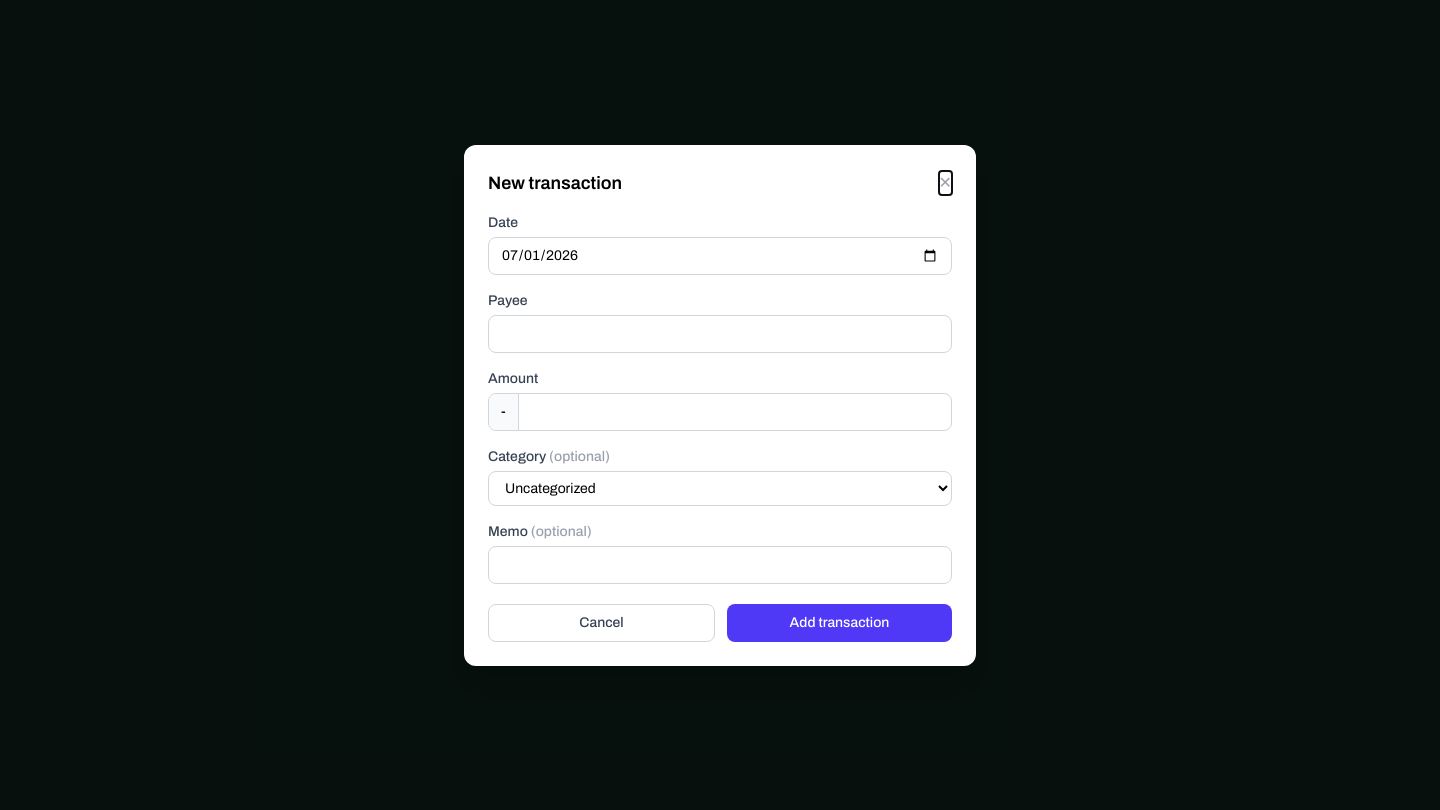
Test: AddTransactionModal › clicking sign toggle switches to income (+)
The image size is (1440, 810).
Click the button named "expense" at (504, 412), box [489,394,519,430]
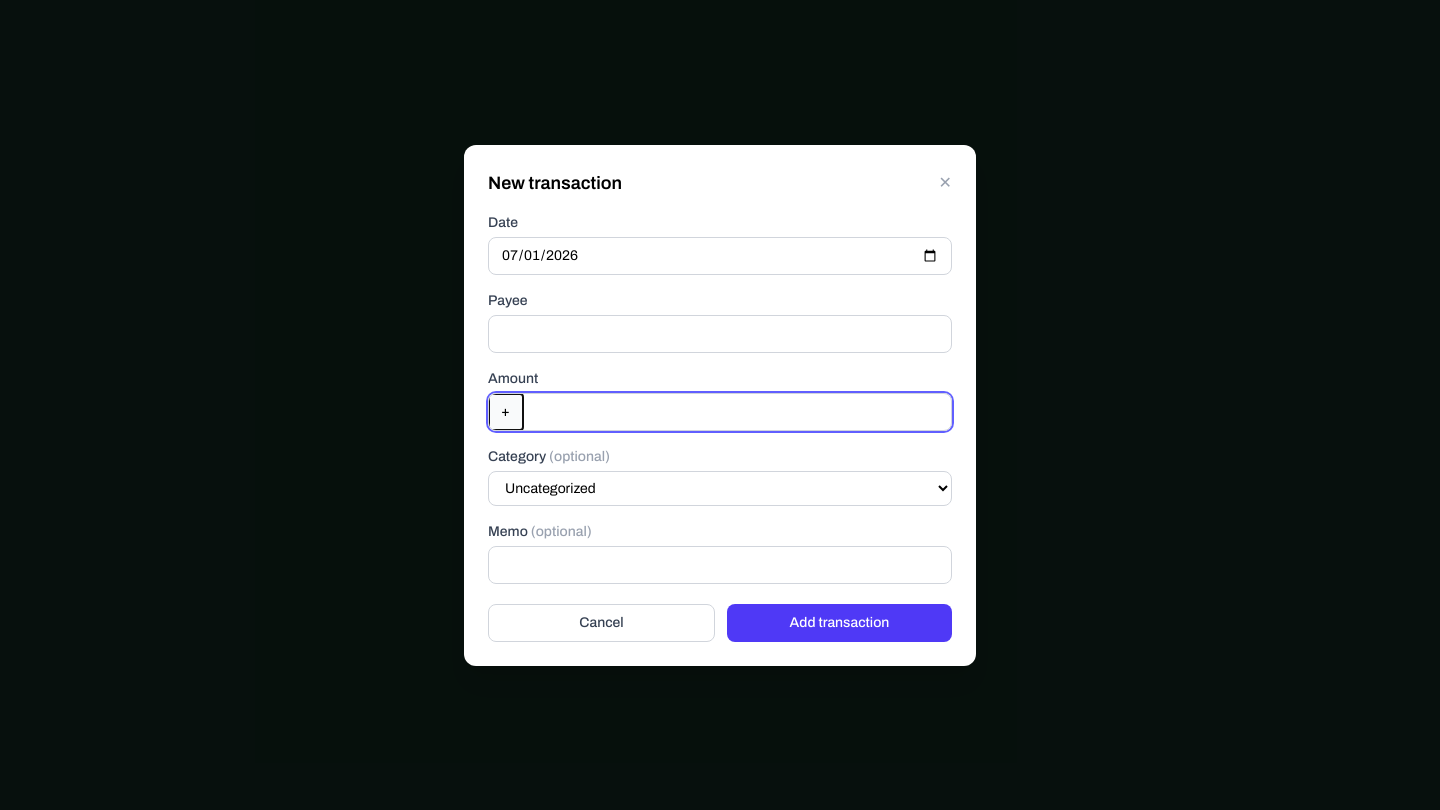
Result: the button named "income" reads "+" at [489,394,523,430]
